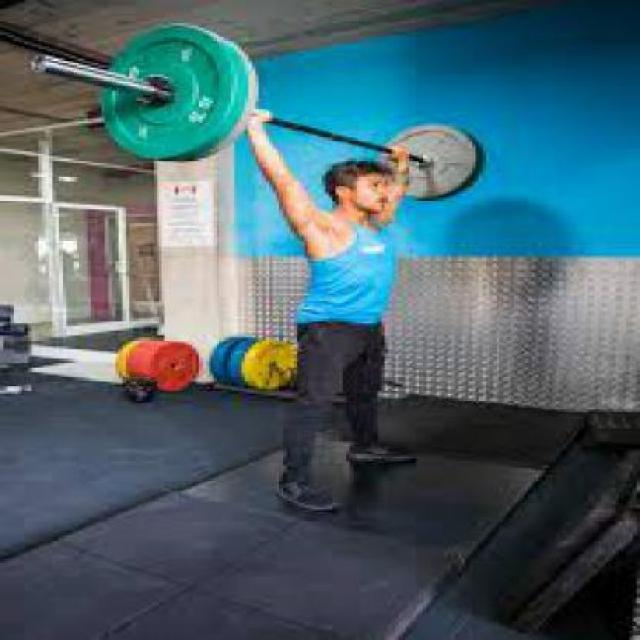Barbell: (27, 52, 55, 76)
